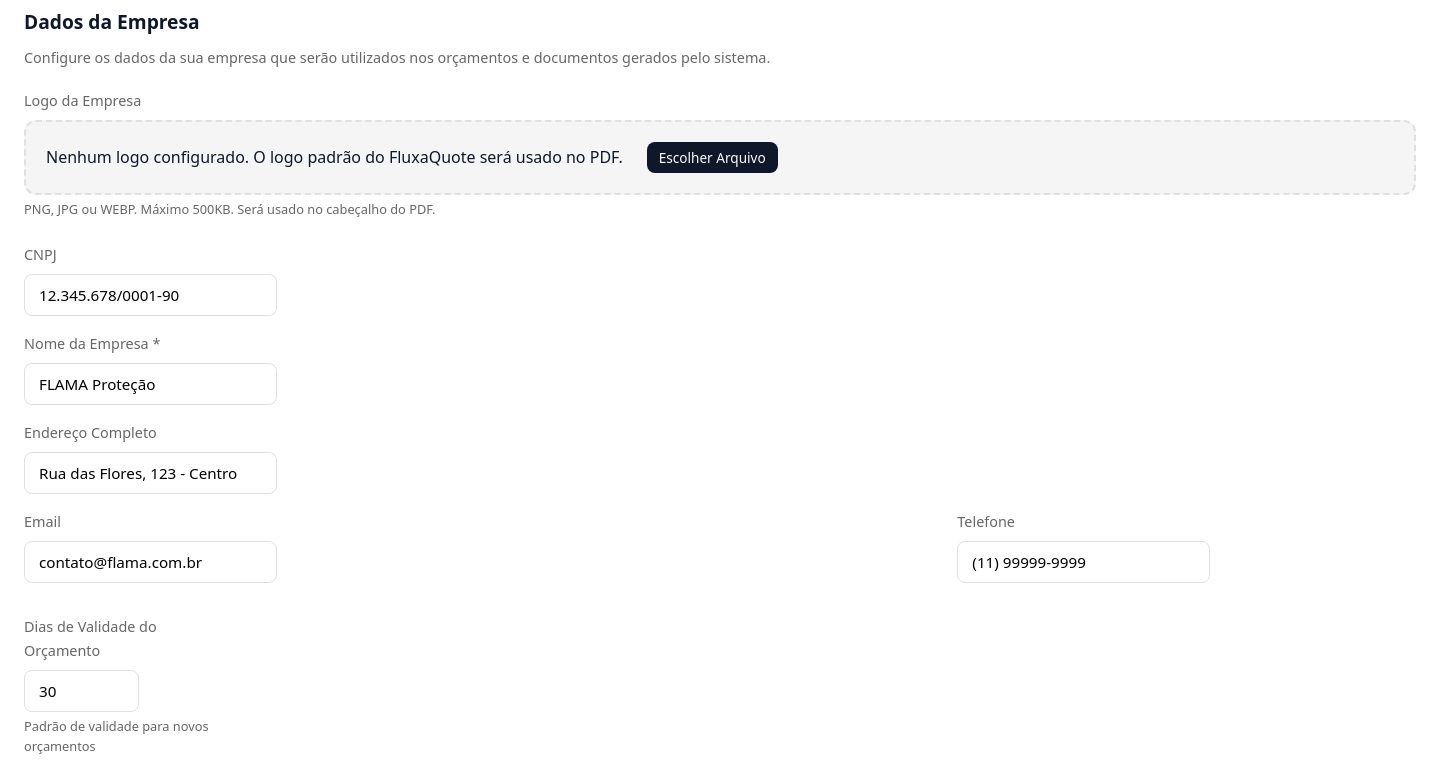
Test case: EmpresaTab › Salvar configurações › deve mostrar erro ao falhar salvar
Replace the text in the field showing "FLAMA Proteção" below "Nome da Empresa *" with "Nova Empresa": coordinates (150, 384) [24,363,277,405]
(page scrolled)
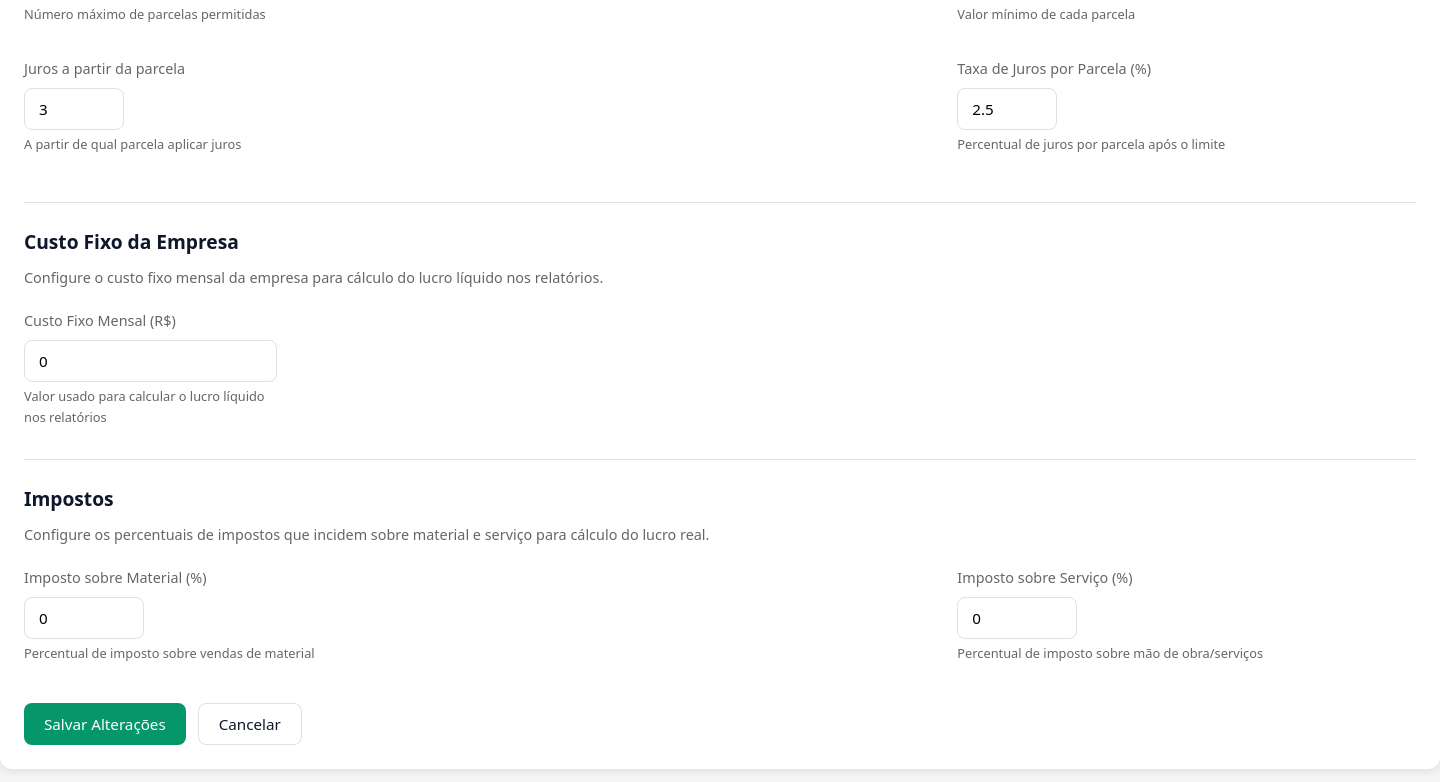
Click the button "Salvar Alterações": coordinates (105, 724) [24,703,186,745]
(page scrolled)
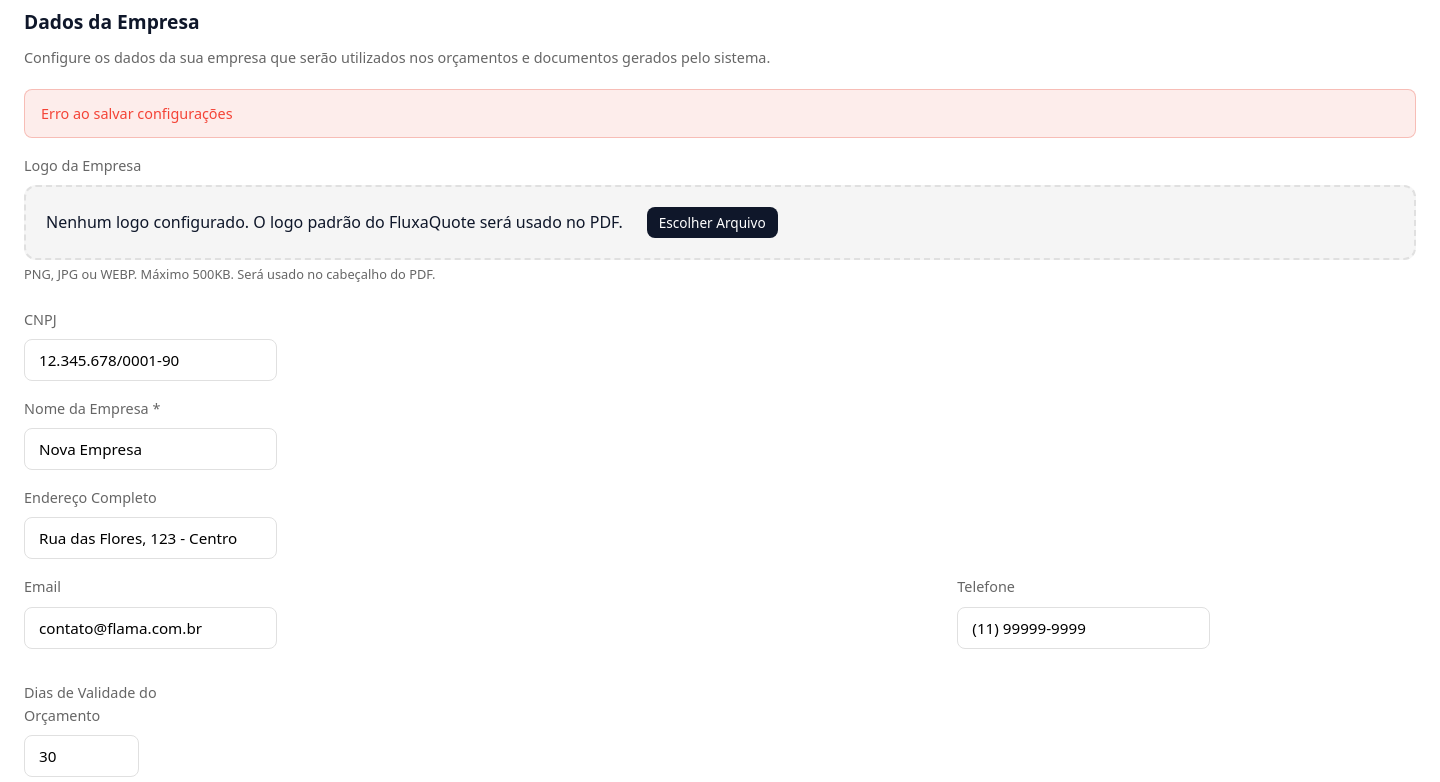
Expected: the text "Erro ao salvar configurações" is shown, [24,89,1416,138]
